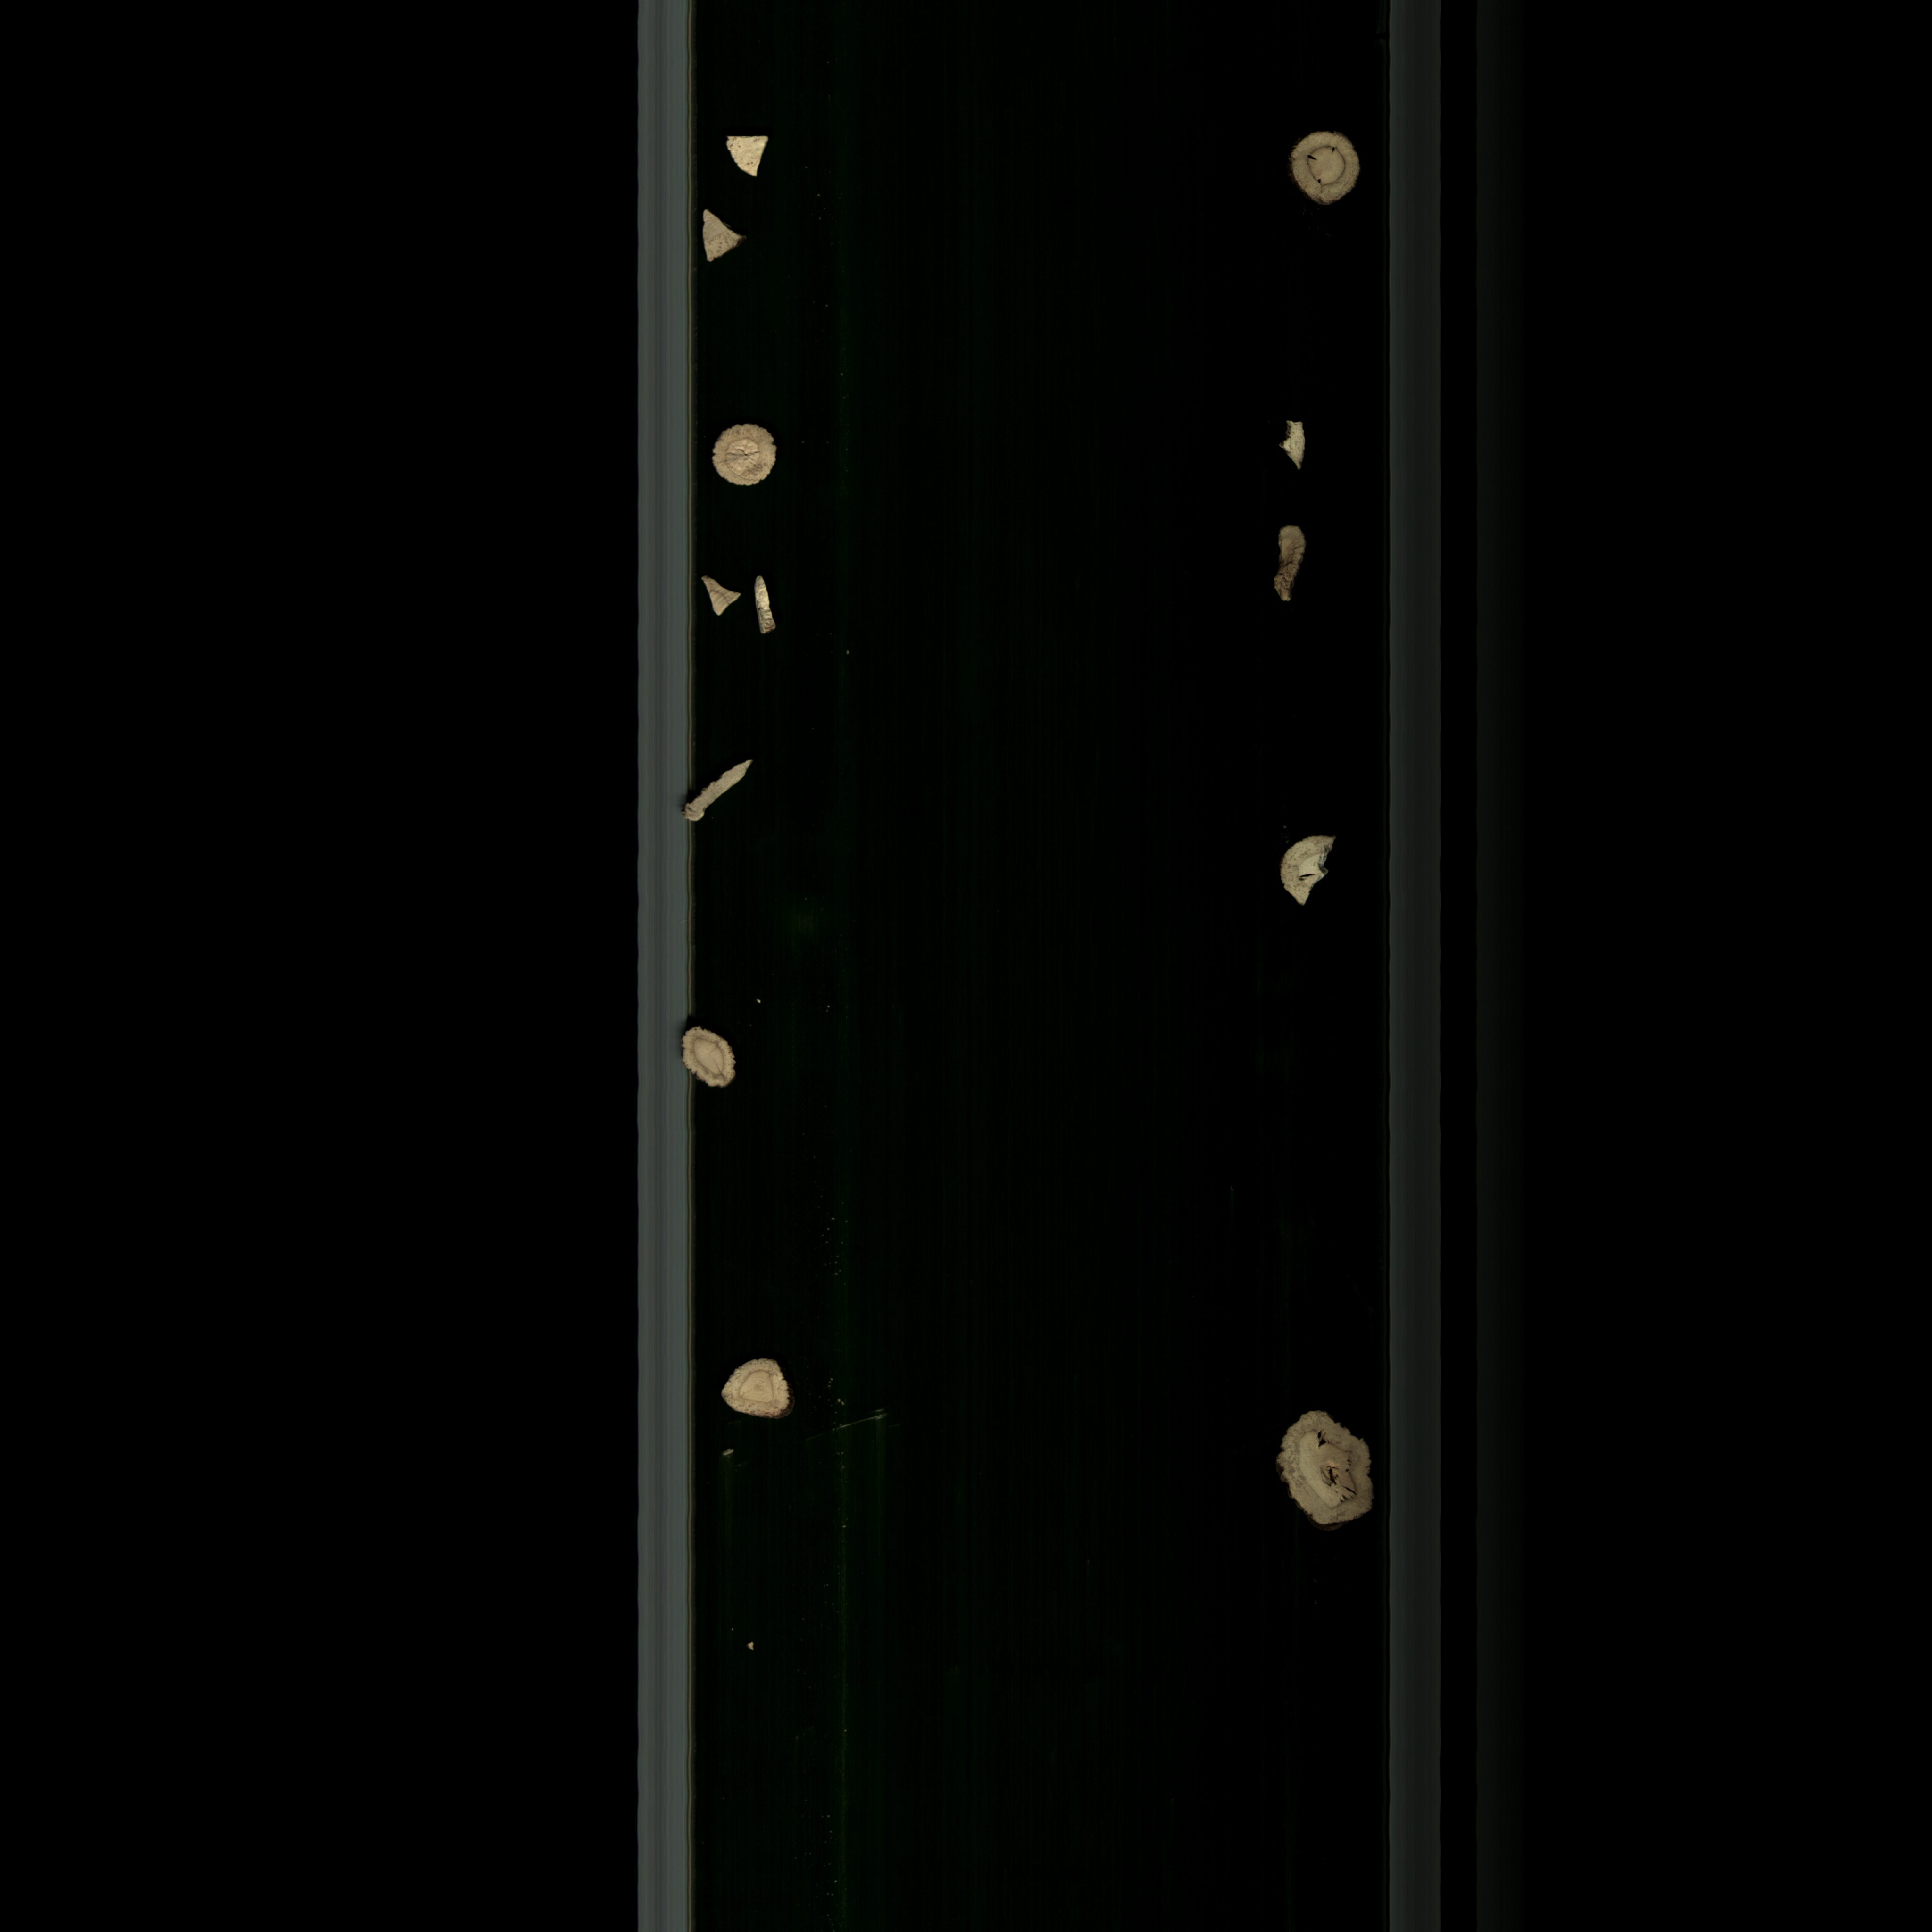distortion: (678, 1024, 741, 1100)
dreg: (1269, 828, 1350, 916), (679, 752, 761, 828), (718, 126, 789, 188), (695, 205, 750, 271), (694, 570, 747, 623), (1276, 409, 1316, 472), (755, 571, 784, 646)
moldy: (1270, 1408, 1387, 1545), (1272, 124, 1375, 221), (1254, 518, 1325, 619)
